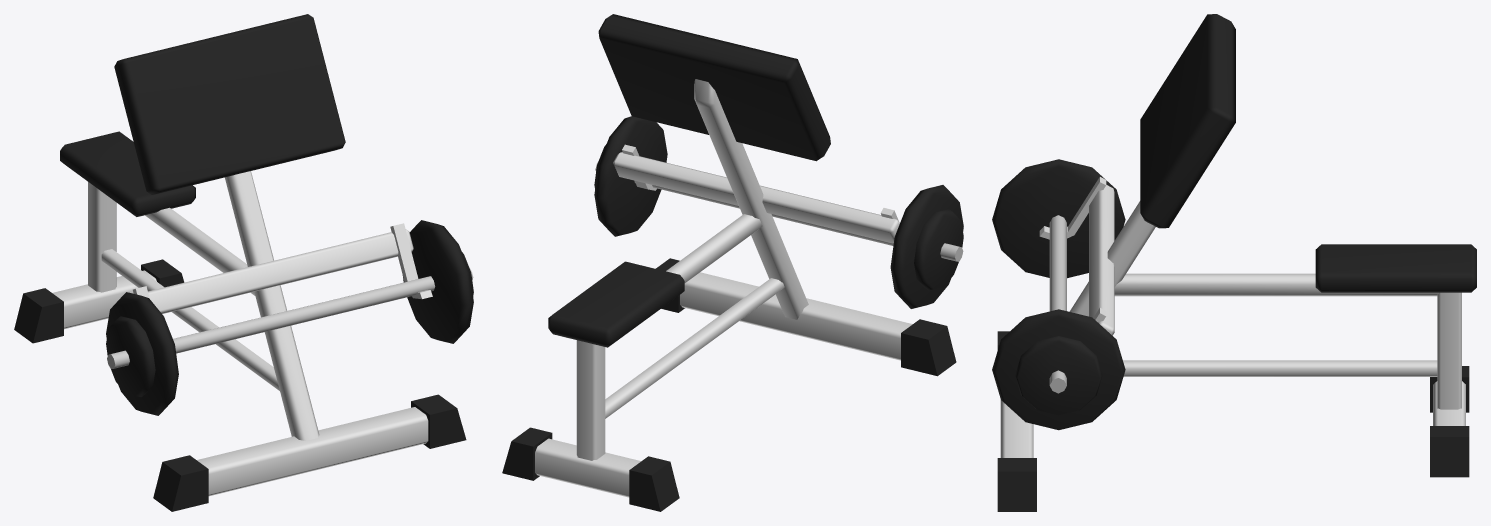
File: training_008.fbx
3 views of the same model, side by side, from view 1: azimuth 30°, elevation 25°; view 2: azimuth 150°, elevation 25°; view 3: azimuth 270°, elevation 25° (orthographic). The views are drawn at different scales.
Visible parts, largest first — view 1: training_008; view 2: training_008; view 3: training_008.
Part boxes in pixels (bbox=[...]): training_008: bbox=[14, 14, 473, 511]; training_008: bbox=[502, 14, 963, 511]; training_008: bbox=[992, 14, 1476, 511].
Size of the model in its own units: 122 by 137 by 118.
